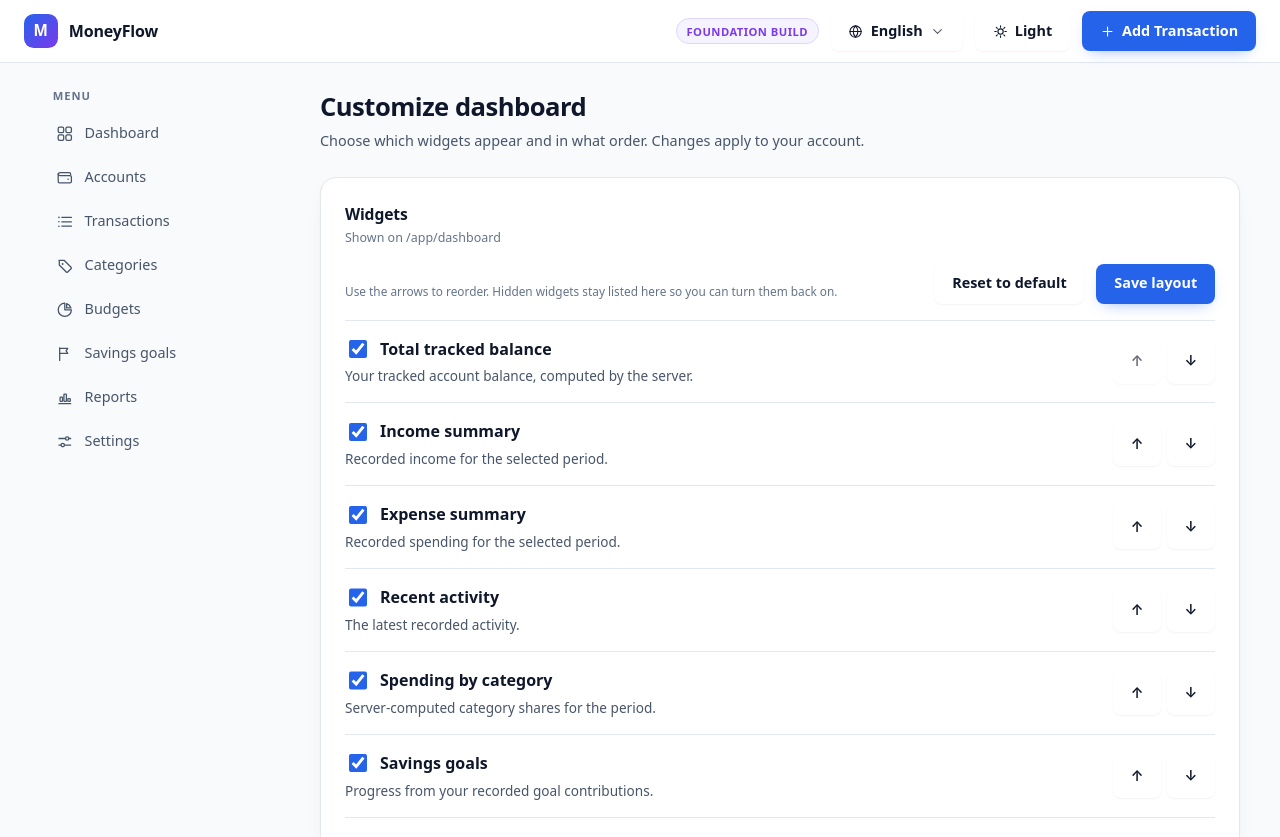
Scenario: dashboard customize route (wired to /api/v1/dashboard/layout) › reorders widgets and saves the complete validated list
Expected: the text "Total tracked balance" is shown, [380,337,552,361]
Click the button named "Move Total tracked balance down" at (1191, 362), box [1167,340,1215,384]
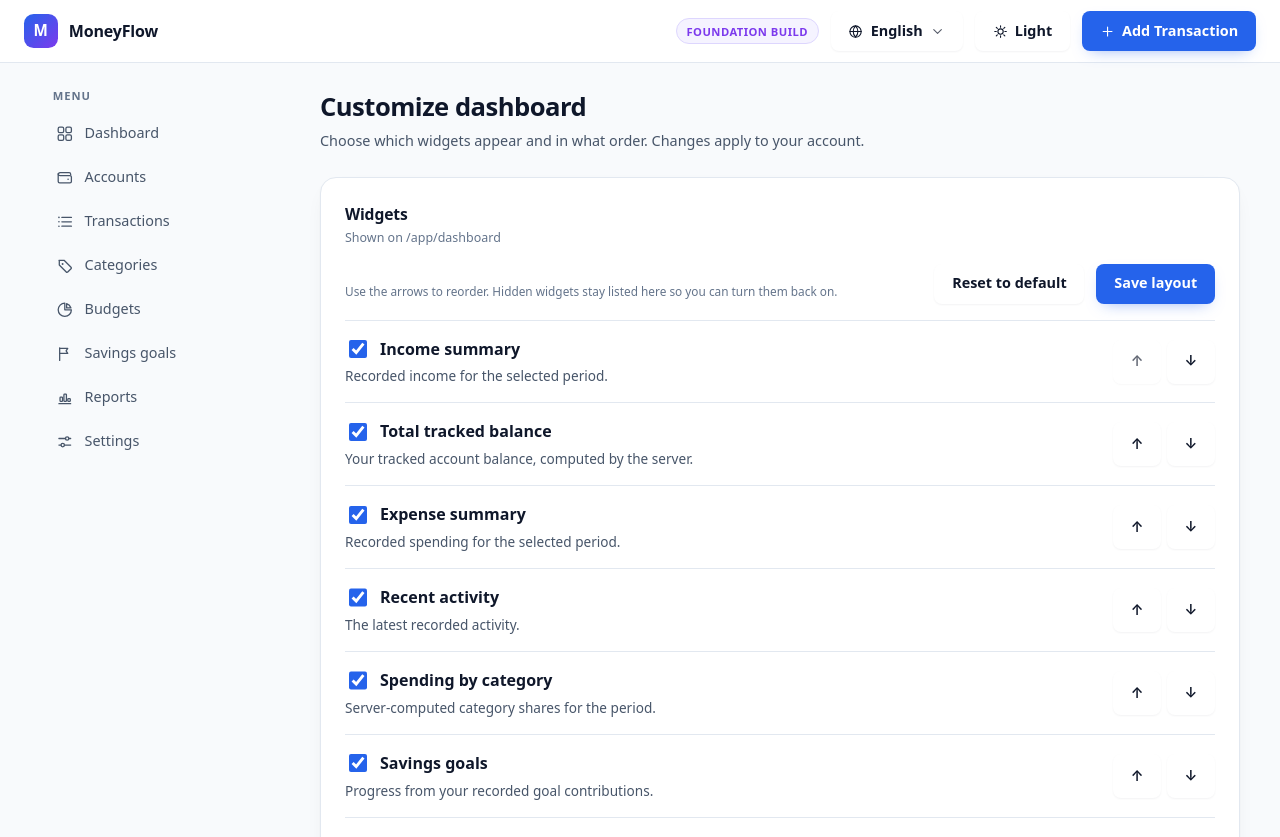
Click the button "Save layout" at (1156, 284), box [1096,264,1215,304]
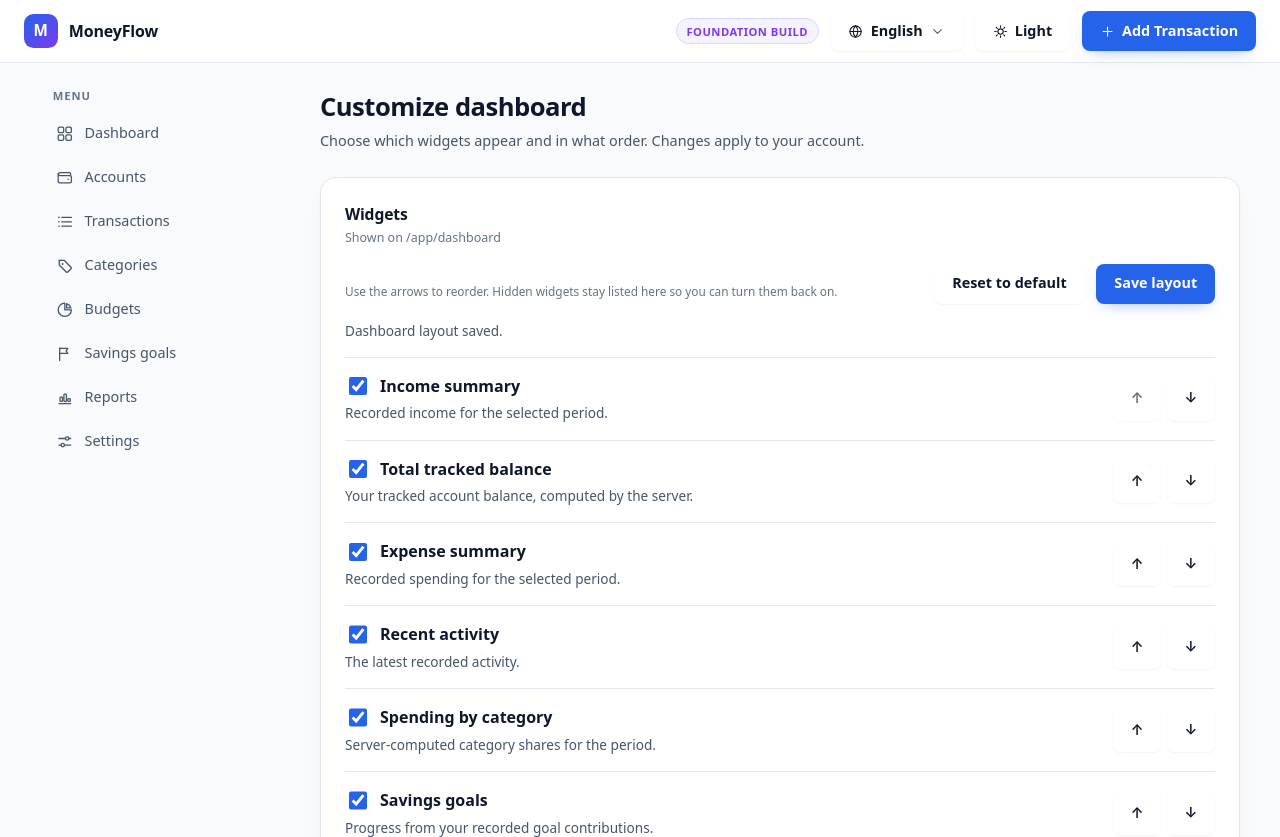
Result: the text "Dashboard layout saved." is shown at [345,321,503,340]
